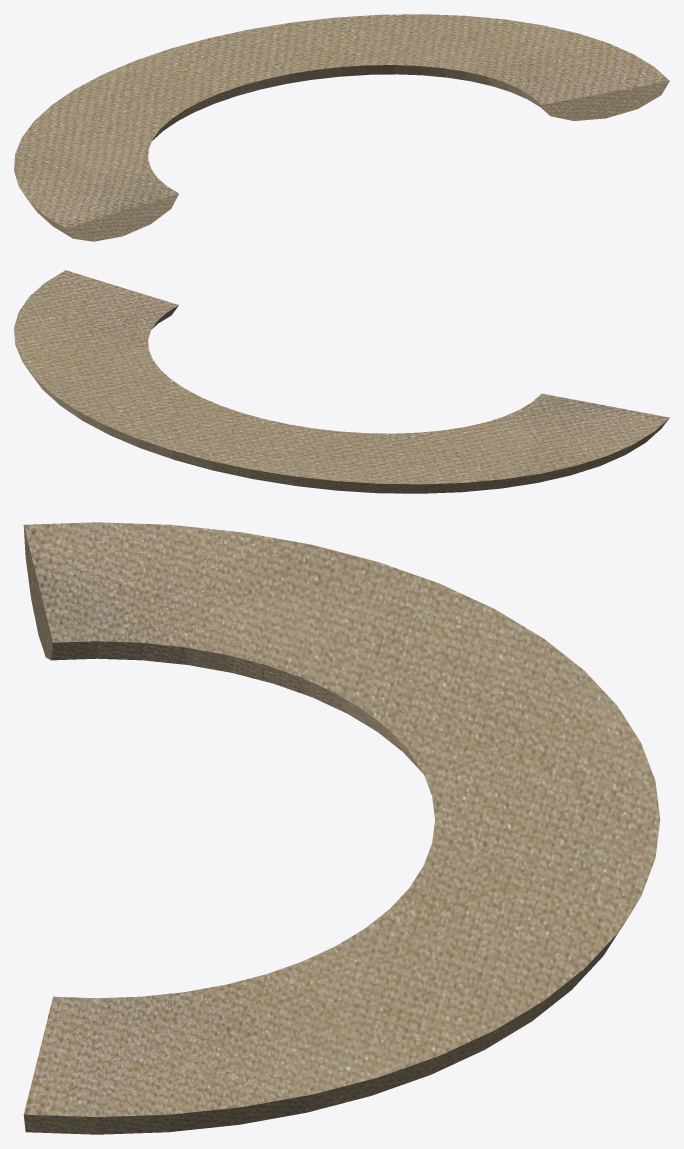
File: Stage.obj
The picture shows the model from 3 angles, top to bottom: view 1: azimuth 30°, elevation 25°; view 2: azimuth 150°, elevation 25°; view 3: azimuth 270°, elevation 25°; orthographic projection. The views are drawn at different scales.
Visible parts, largest first — view 1: Torus; view 2: Torus; view 3: Torus.
Boxes of the visible parts, x1,y1,x2,y2 form: Torus: [14, 14, 669, 241]; Torus: [14, 270, 669, 493]; Torus: [23, 522, 660, 1134].
Size of the model in its own units: 62.5 by 2.5 by 28.26.
